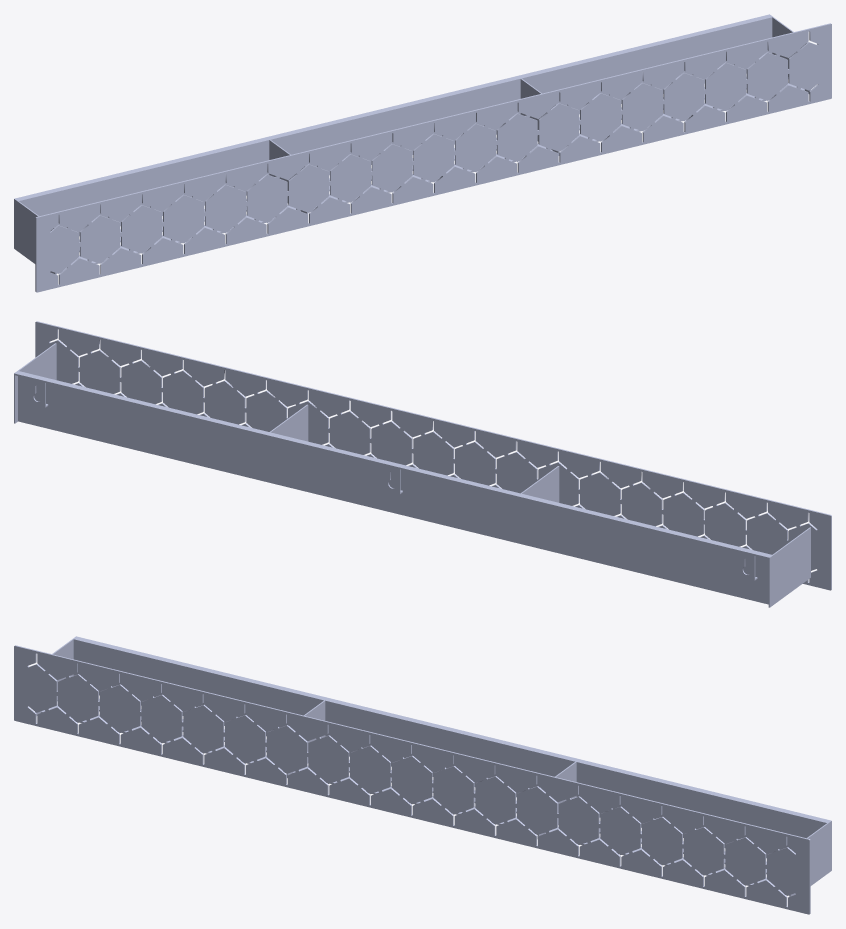
Rendered from bee-mono.0d48bd72fc.glb.
The picture shows the model from 3 angles, top to bottom: view 1: azimuth 30°, elevation 25°; view 2: azimuth 150°, elevation 25°; view 3: azimuth 330°, elevation 25°; orthographic projection.
Visible parts, largest first — view 1: NAUO1; view 2: NAUO1; view 3: NAUO1.
Part boxes in pixels (x1,y1,x2,y2): NAUO1: [14, 14, 831, 292]; NAUO1: [14, 321, 831, 607]; NAUO1: [14, 636, 831, 914].
Bounding box in the file's own units: 1 × 0.09 × 0.092.
